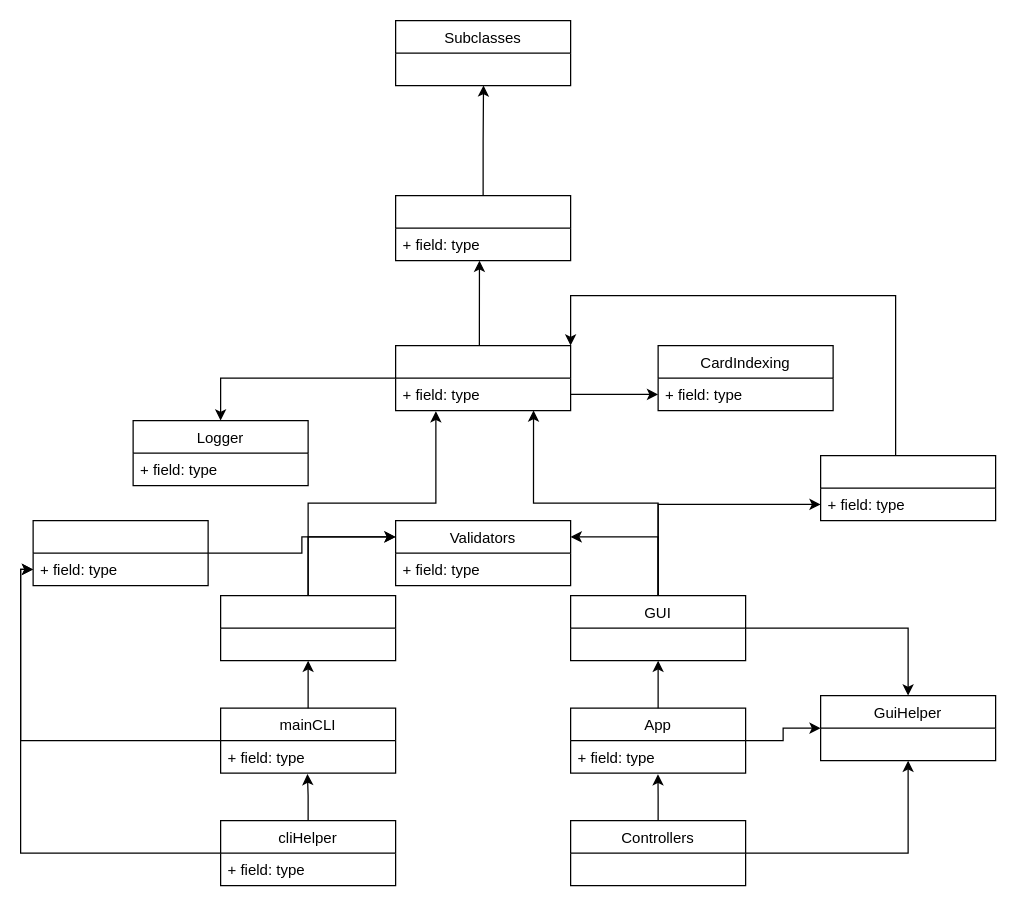
The diagram is 1016 pixels wide and 906 high, and some of its shapes have lost their labels. Each missing label, with the box of its shape:
Card: (394, 194, 571, 261)
CardService: (394, 344, 571, 411)
CLI: (219, 594, 396, 661)
ConsoleInput: (32, 519, 208, 586)
Deck: (819, 454, 996, 521)
